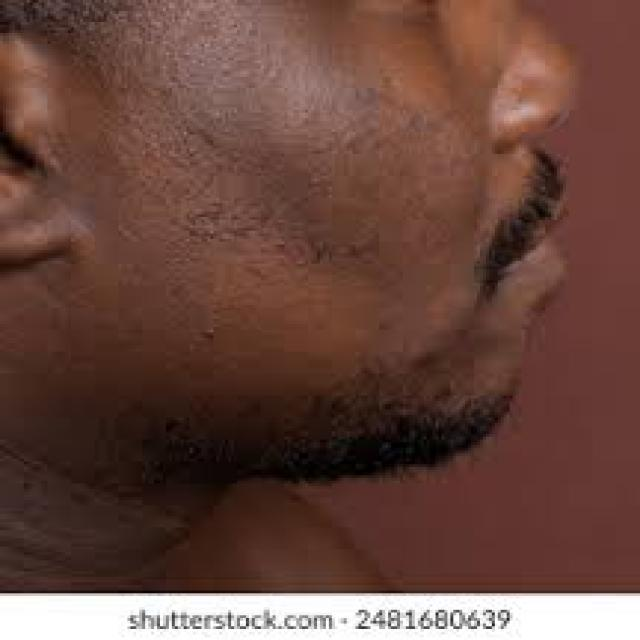pigmentation: (162, 29, 376, 229)
